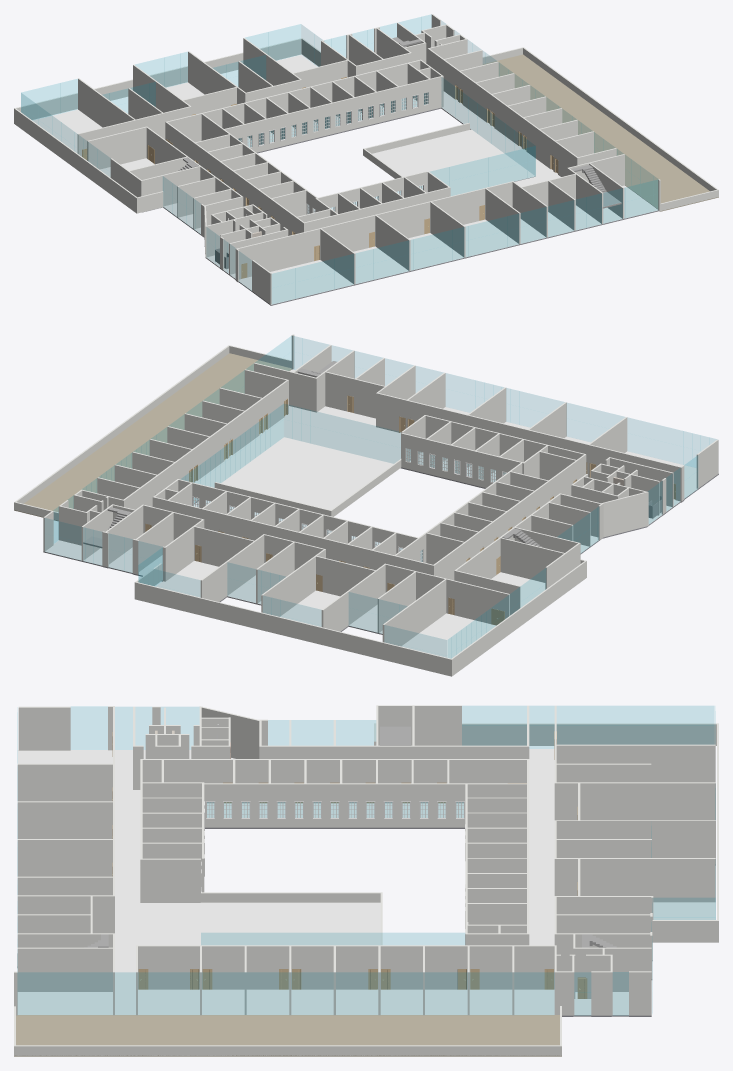
Rendered from 3L墙体.gltf.
The picture shows the model from 3 angles, top to bottom: view 1: azimuth 30°, elevation 25°; view 2: azimuth 150°, elevation 25°; view 3: azimuth 270°, elevation 25°; orthographic projection. The views are drawn at different scales.
Parts seen in each view (by area): view 1: 常规 140 - 20+120 [639489], 常规 140 - 20+120 2 [716174], 常规 - 200mm [406510], 常规 140 - 20+120 [713199], 常规 - 200mm [405003], 常规 - 200mm [390235], 常规 - 200mm [396545], 常规 - 200mm 3 [642364], 常规 - 200mm [393992], 常规 - 200mm 3 [642145], 常规 - 200mm [400106], 常规 - 200mm [644836] (+50 smaller); view 2: 常规 140 - 20+120 [639489], 常规 140 - 20+120 2 [716174], 常规 140 - 20+120 [713199], 常规 - 200mm 3 [642364], 常规 - 200mm [390235], 常规 - 200mm [406510], 常规 - 200mm [396545], 常规 - 200mm [393992], 常规 - 200mm [392776], 常规 - 200mm [394713], 常规 - 200mm [405003], 常规 - 200mm 3 [642145] (+52 smaller); view 3: 常规 140 - 20+120 [639489], 常规 140 - 20+120 2 [716174], 常规 - 200mm [390235], 常规 - 200mm [396860], 常规 - 200mm [393992], 常规 140 - 20+120 [713199], 常规 - 200mm [383719], 常规 - 200mm [394209], 常规 - 200mm [644836], 常规 - 200mm 3 [642145], 常规 - 200mm [382158], 常规 - 200mm [406669] (+42 smaller).
Part boxes in pixels (x1,y1,x2,y2): 常规 140 - 20+120 [639489]: [33, 55, 658, 305]; 常规 140 - 20+120 2 [716174]: [482, 54, 718, 211]; 常规 - 200mm [406510]: [235, 181, 513, 279]; 常规 140 - 20+120 [713199]: [372, 129, 535, 196]; 常规 - 200mm [405003]: [224, 75, 443, 152]; 常规 - 200mm [390235]: [427, 48, 578, 176]; 常规 - 200mm [396545]: [167, 60, 420, 142]; 常规 - 200mm 3 [642364]: [15, 38, 302, 119]; 常规 - 200mm [393992]: [165, 121, 303, 235]; 常规 - 200mm 3 [642145]: [14, 108, 136, 212]; 常规 - 200mm [400106]: [87, 126, 147, 169]; 常规 - 200mm [644836]: [523, 47, 717, 191]; 常规 140 - 20+120 [639489]: [43, 369, 718, 658]; 常规 140 - 20+120 2 [716174]: [14, 353, 291, 520]; 常规 140 - 20+120 [713199]: [221, 437, 393, 509]; 常规 - 200mm 3 [642364]: [134, 581, 450, 675]; 常规 - 200mm [390235]: [122, 379, 288, 509]; 常规 - 200mm [406510]: [376, 392, 682, 501]; 常规 - 200mm [396545]: [154, 497, 432, 574]; 常规 - 200mm [393992]: [432, 454, 585, 580]; 常规 - 200mm [392776]: [401, 433, 524, 487]; 常规 - 200mm [394713]: [384, 563, 509, 623]; 常规 - 200mm [405003]: [177, 479, 417, 553]; 常规 - 200mm 3 [642145]: [450, 561, 586, 676]; 常规 140 - 20+120 [639489]: [17, 749, 715, 1016]; 常规 140 - 20+120 2 [716174]: [14, 1015, 561, 1056]; 常规 - 200mm [390235]: [136, 945, 556, 989]; 常规 - 200mm [396860]: [204, 783, 526, 827]; 常规 - 200mm [393992]: [142, 759, 529, 803]; 常规 140 - 20+120 [713199]: [200, 902, 380, 945]; 常规 - 200mm [383719]: [556, 858, 715, 902]; 常规 - 200mm [394209]: [556, 782, 715, 820]; 常规 - 200mm [644836]: [16, 1045, 559, 1055]; 常规 - 200mm 3 [642145]: [462, 723, 718, 745]; 常规 - 200mm [382158]: [556, 744, 715, 782]; 常规 - 200mm [406669]: [17, 947, 112, 991].
Bounding box in the file's own units: 69.25 × 4.64 × 66.38.
